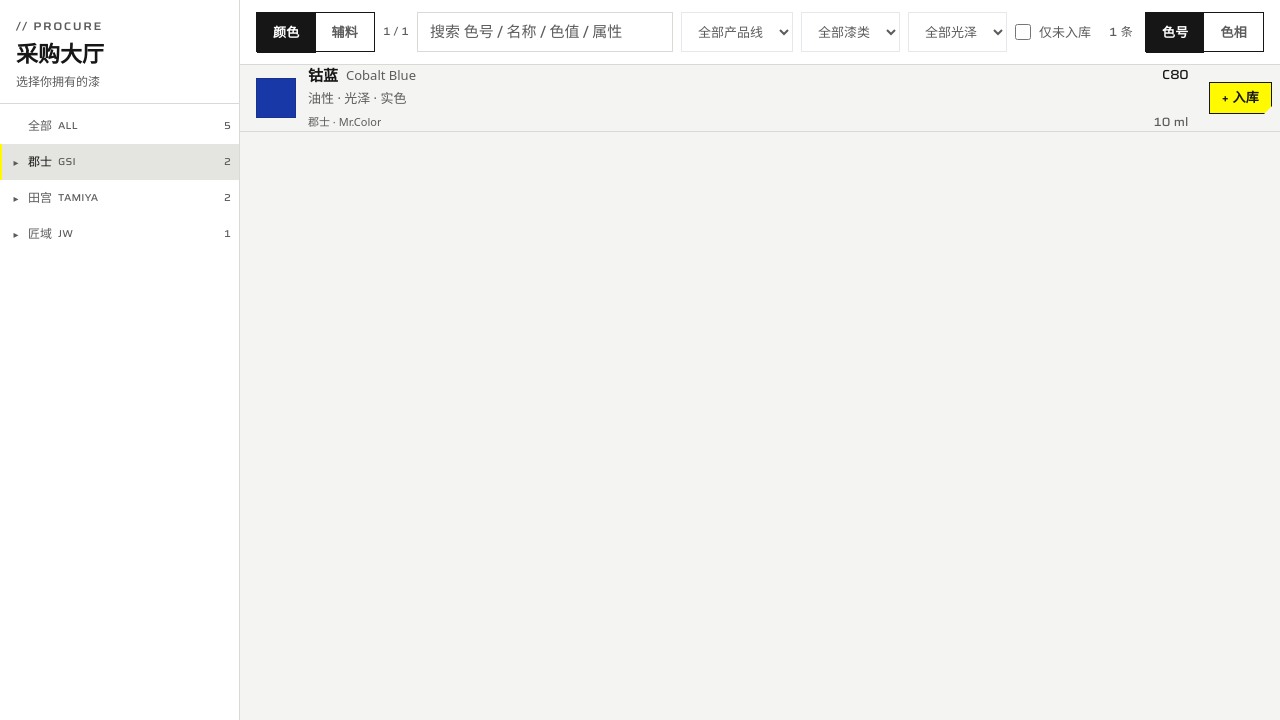
2.2.2 · 采购页辅料货架与摘要 › 辅料货架能拿到水补土 SF283，描述为「油性 · 底漆」，规格 40 ml
Step 1. Click the tab "辅料" → (345, 33), box [316,13,374,53]
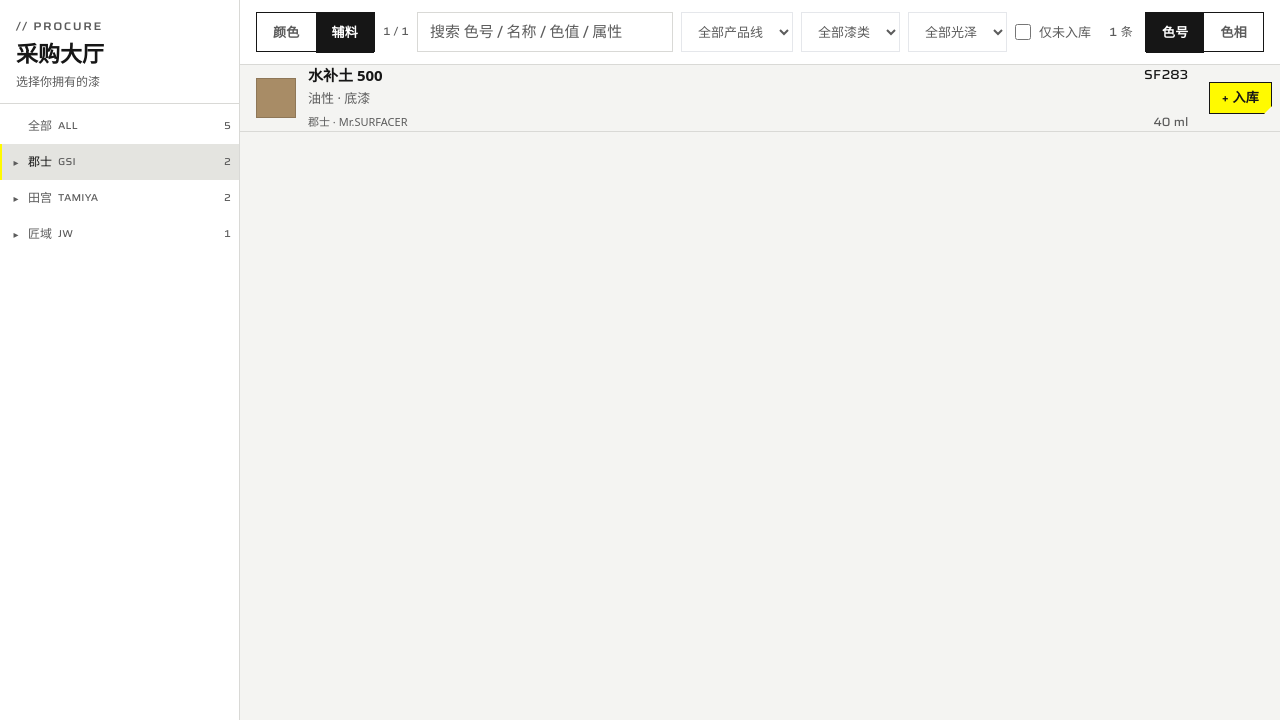
Expected: the option "水补土 500 SF283 油性 · 底漆 郡士 · Mr.SURFACER 40 ml" is shown, [240,65,1209,131]
Now the text "油性 · 底漆" is shown, box [308,89,370,107]
